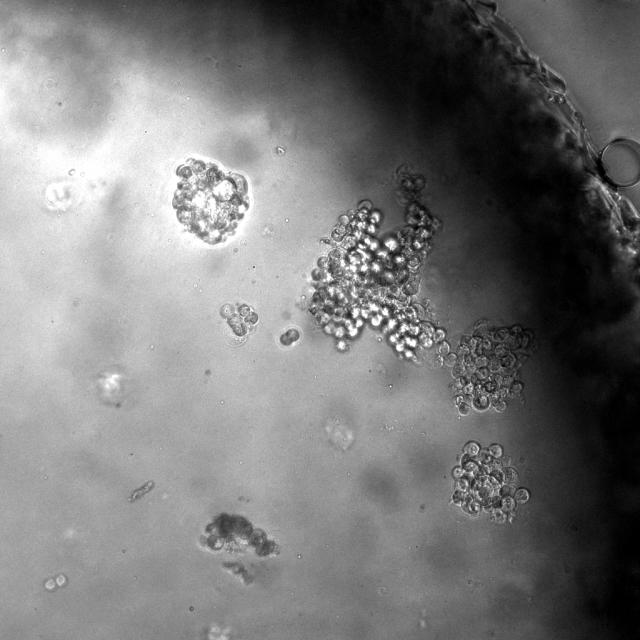organoid: (307, 163, 540, 417), (172, 158, 249, 244), (451, 441, 530, 522), (203, 514, 278, 556), (220, 302, 259, 347), (279, 326, 301, 348), (44, 574, 68, 592)
